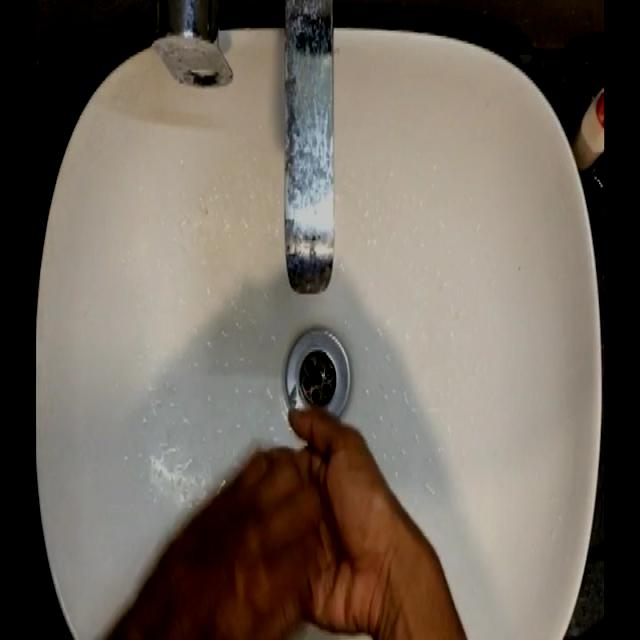step_4: (154, 400, 396, 630)
